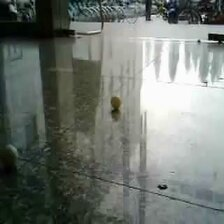w: (1, 143, 19, 166), (110, 94, 122, 108)
